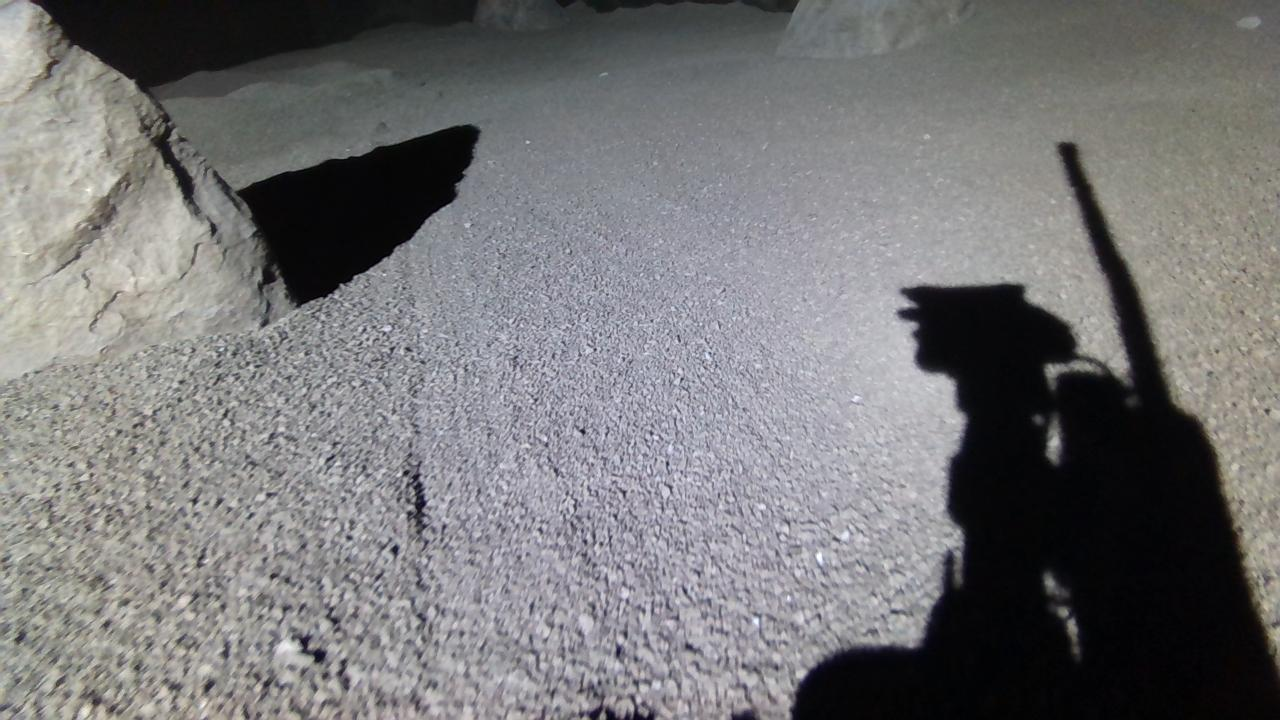rock: (777, 0, 977, 56), (473, 0, 567, 29)
